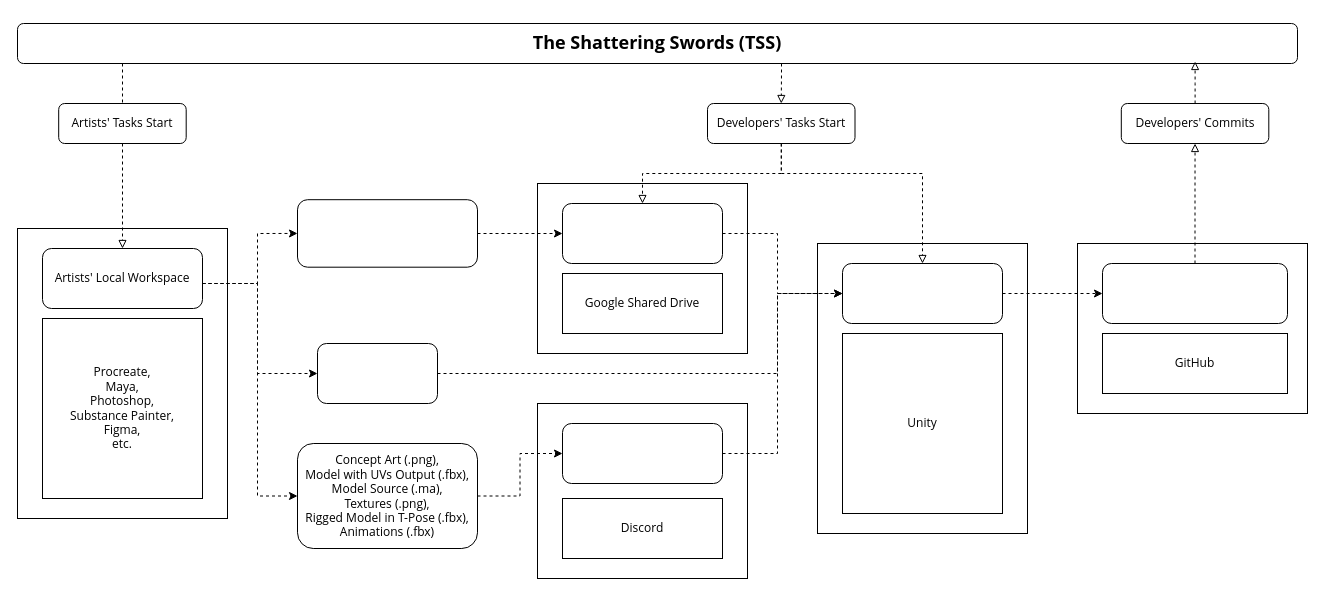
Image size: 1325x596. Some labels were removed from this diagram. The centre of each missing label's shape, as x and y in pixels:
Designated Assets Folder: the point at 642,233
Designated Resources Channel: the point at 642,453
Local Git Repository: the point at 922,293
Reference Images, Audio Files (.wav), Animations Recordings (.mp4): the point at 387,233
Remote Git Repository /dev or /any-feature-branch: the point at 1195,293
UI Assets (.png) Font Assets (.ttf): the point at 377,373
